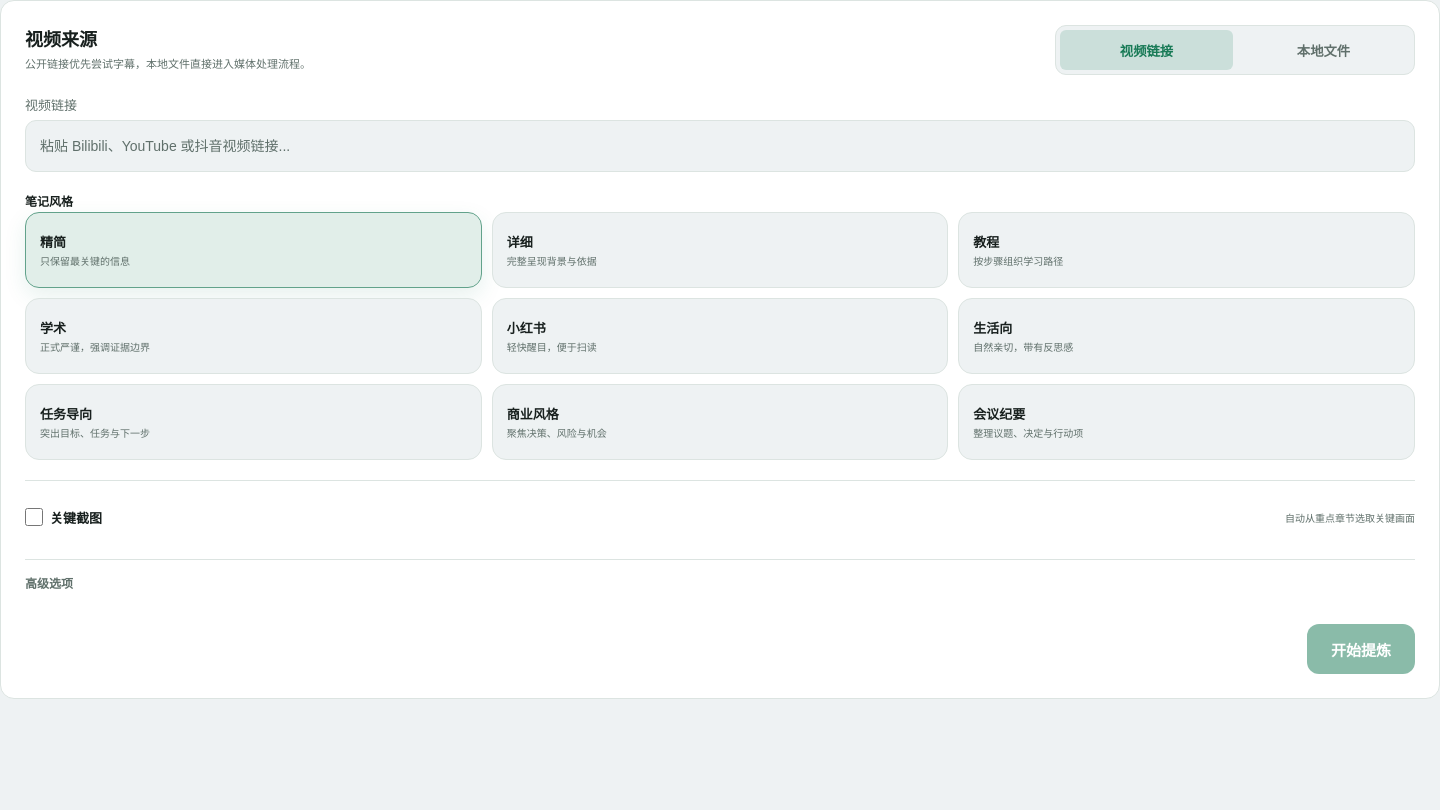
Test: InputPanel workbench inputs › recognizes supported platform links and lets the user clear the URL
The image size is (1440, 810).
Type "https://www.bilibili.com/video/BV1xx411c7mD" into the field labelled "视频链接". click: (720, 146)
box: 25,120 -> 1415,172
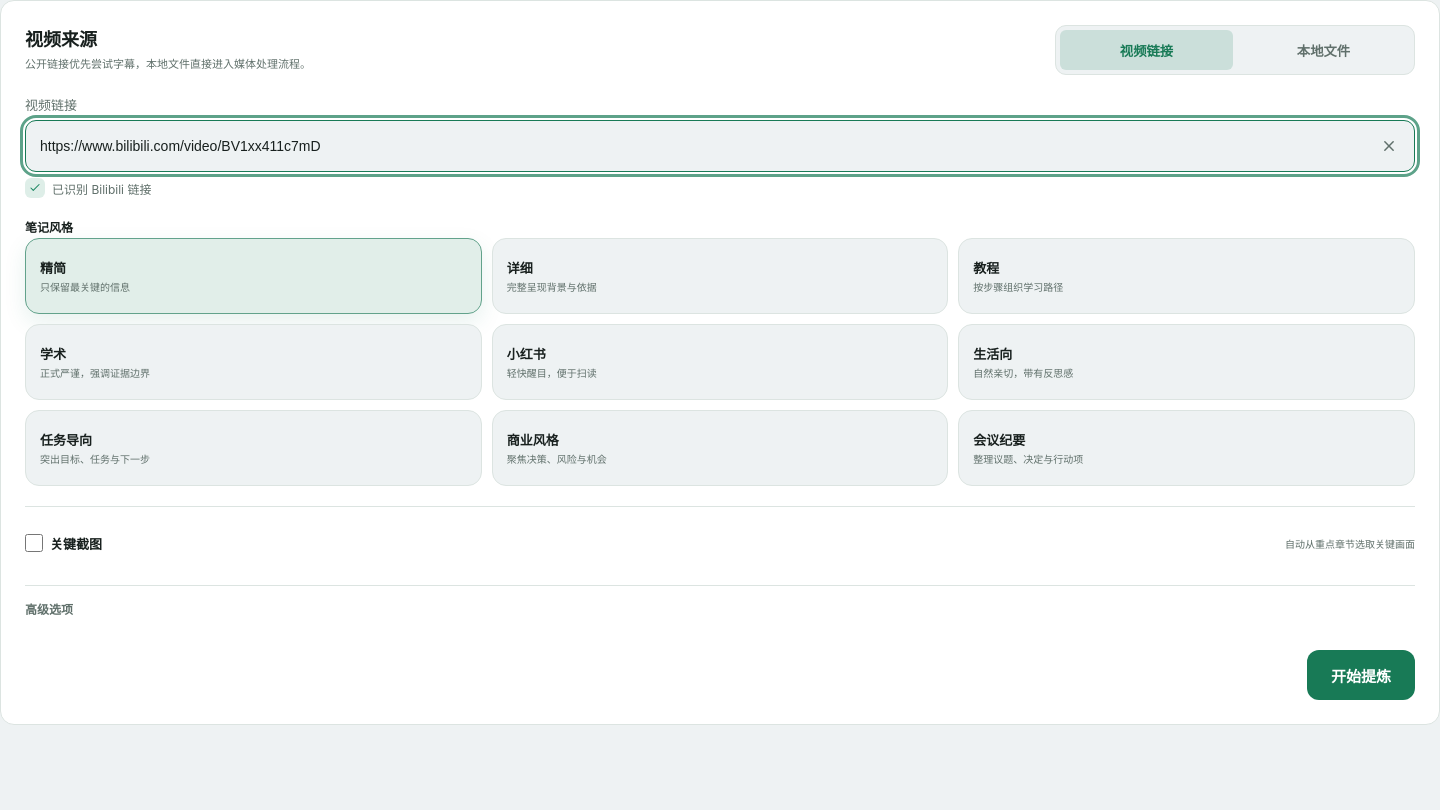
Now the text "已识别 Bilibili 链接" is shown, box 25,178 -> 151,198
Click the button named "清空视频链接". click: (1389, 146)
box: 1369,126 -> 1409,166
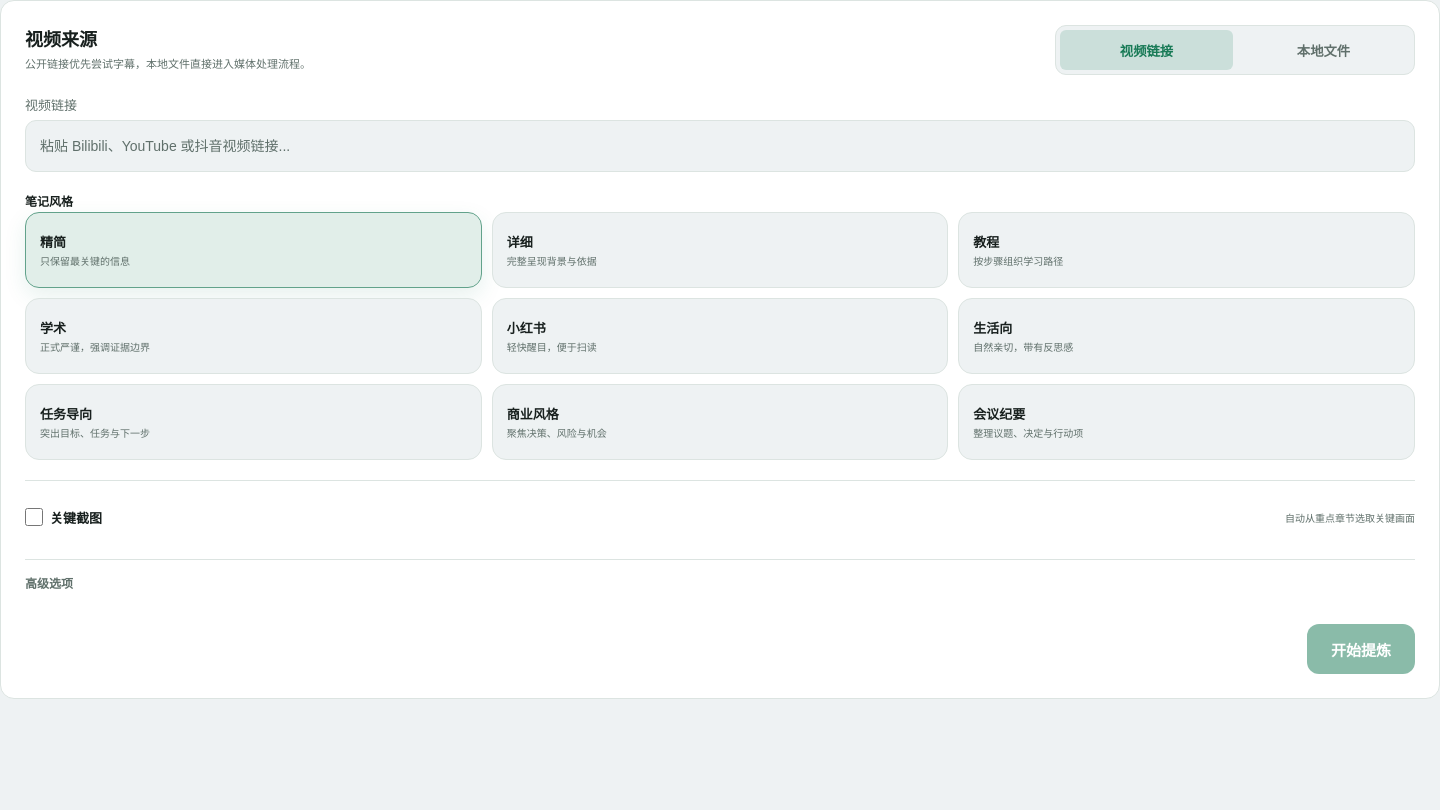
Now the field labelled "视频链接" is empty, box 25,120 -> 1415,172
Now the text "已识别 Bilibili 链接" is gone
